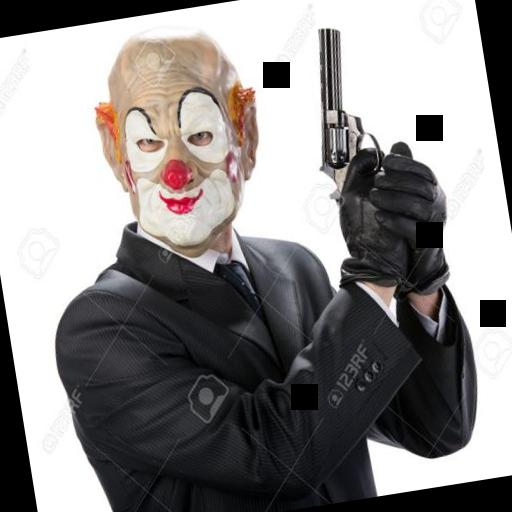Handgun: (294, 13, 408, 225)
